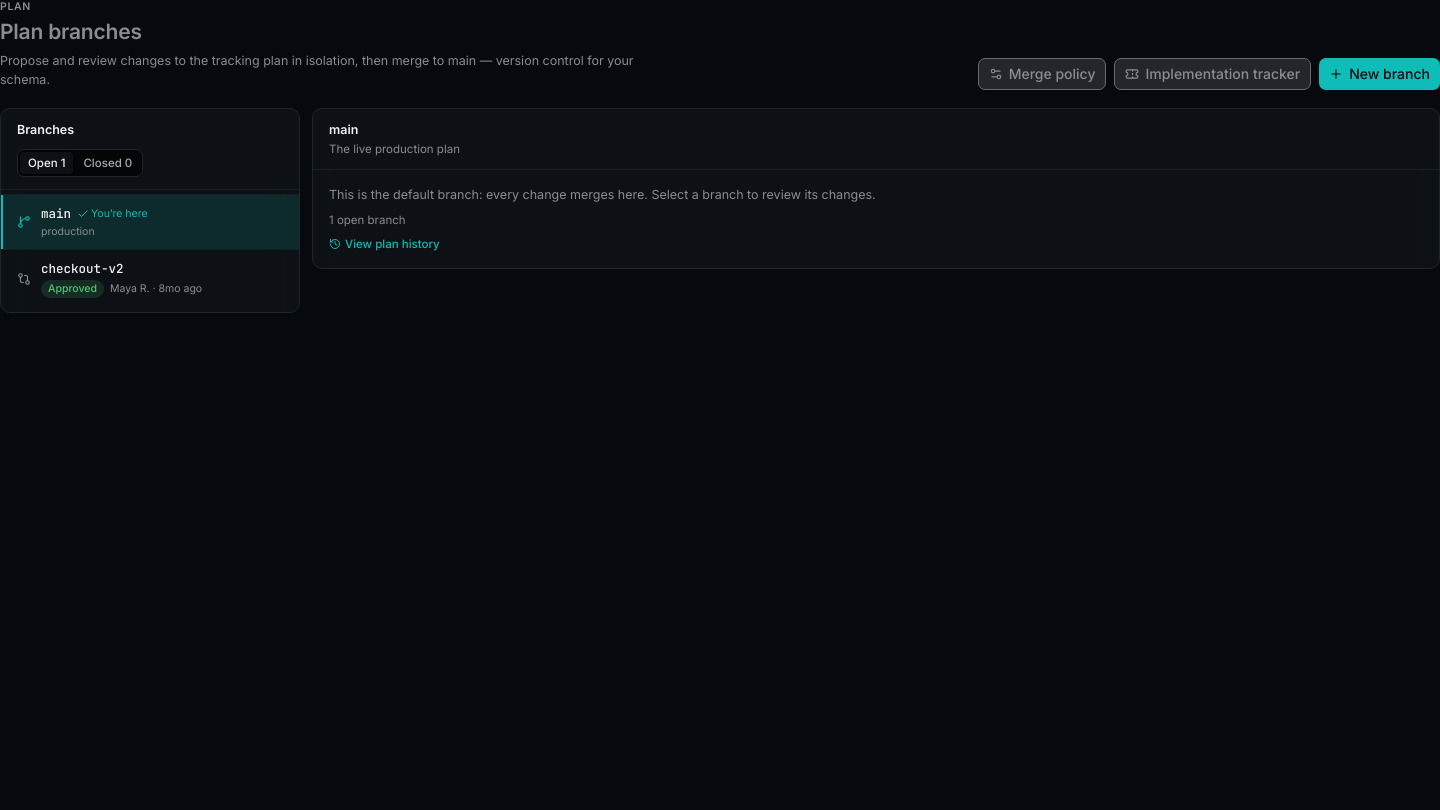
Test case: BranchesTab › renders the real diff with tone-coded counts and per-change rows for a feature branch
The image size is (1440, 810).
Click the text "checkout-v2": (82, 268) [41,260,124,278]
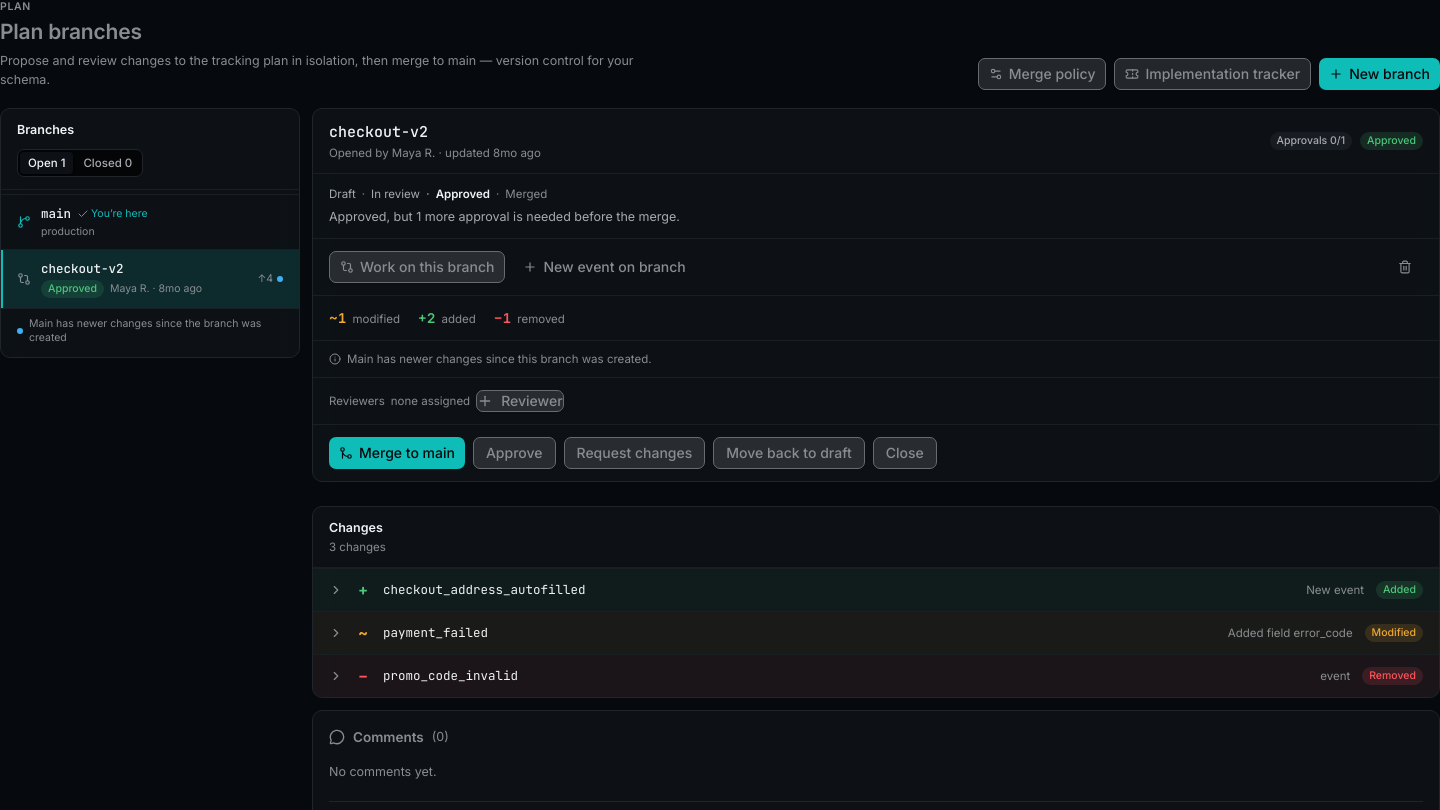
Expected: the text "+2" is shown, [418,308,436,328]
Expected: the text "~1" is shown, [329,308,346,328]
Expected: the text "−1" is shown, [494,308,511,328]
